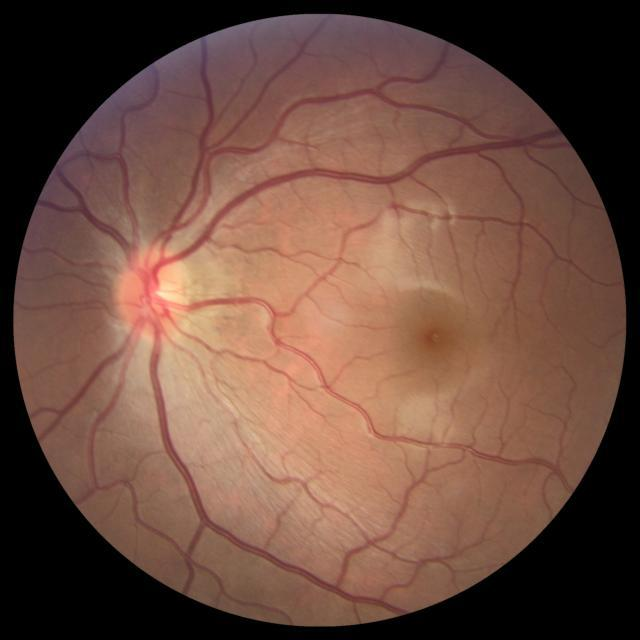OC: (136, 274, 176, 314)
OD: (116, 248, 190, 334)
